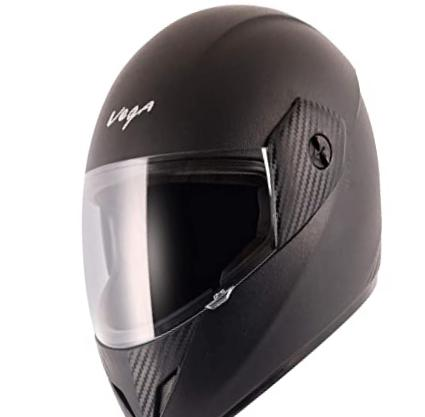helmet: (73, 6, 393, 417)
